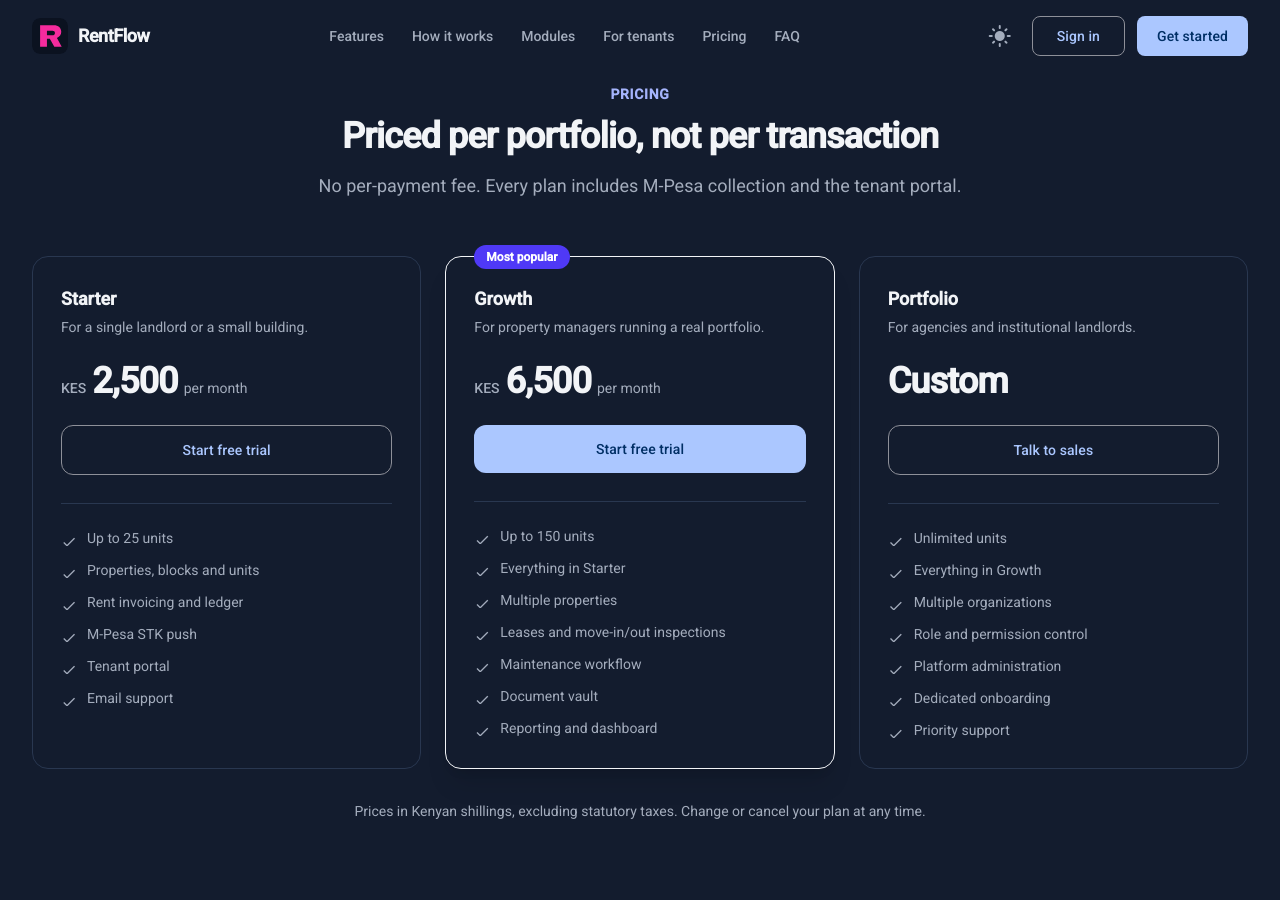
Test: LandingComponent › opens a sales inquiry form from the Portfolio plan
(page scrolled)
Click the button "Talk to sales" at (1053, 450), box [888, 425, 1219, 475]
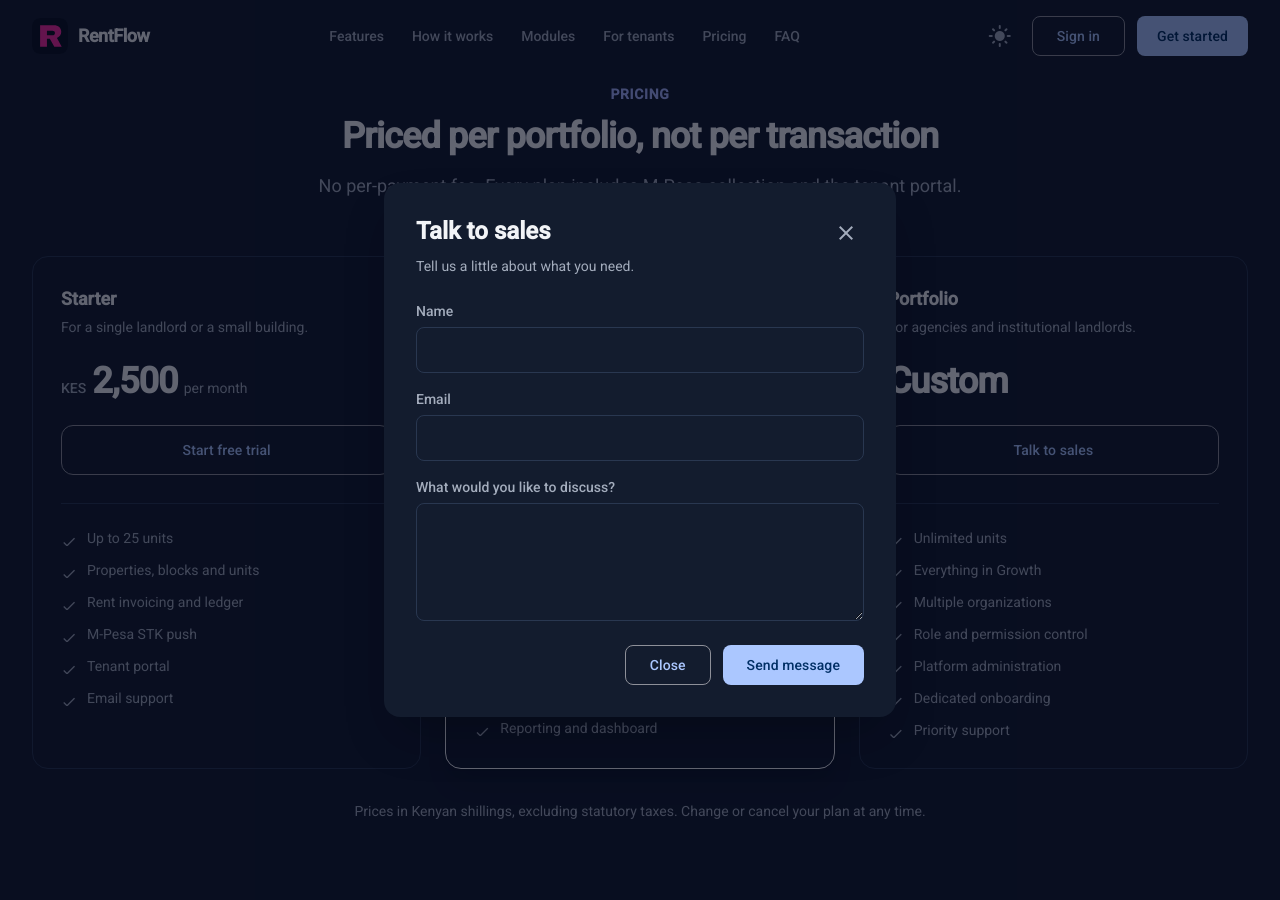
Expected: the dialog is shown, [384, 183, 896, 717]
Expected: the field named "name" is shown, [416, 327, 864, 373]
Expected: the field named "email" is shown, [416, 415, 864, 461]
Click the button named "Close sales inquiry form" at (846, 233), box [828, 215, 864, 251]
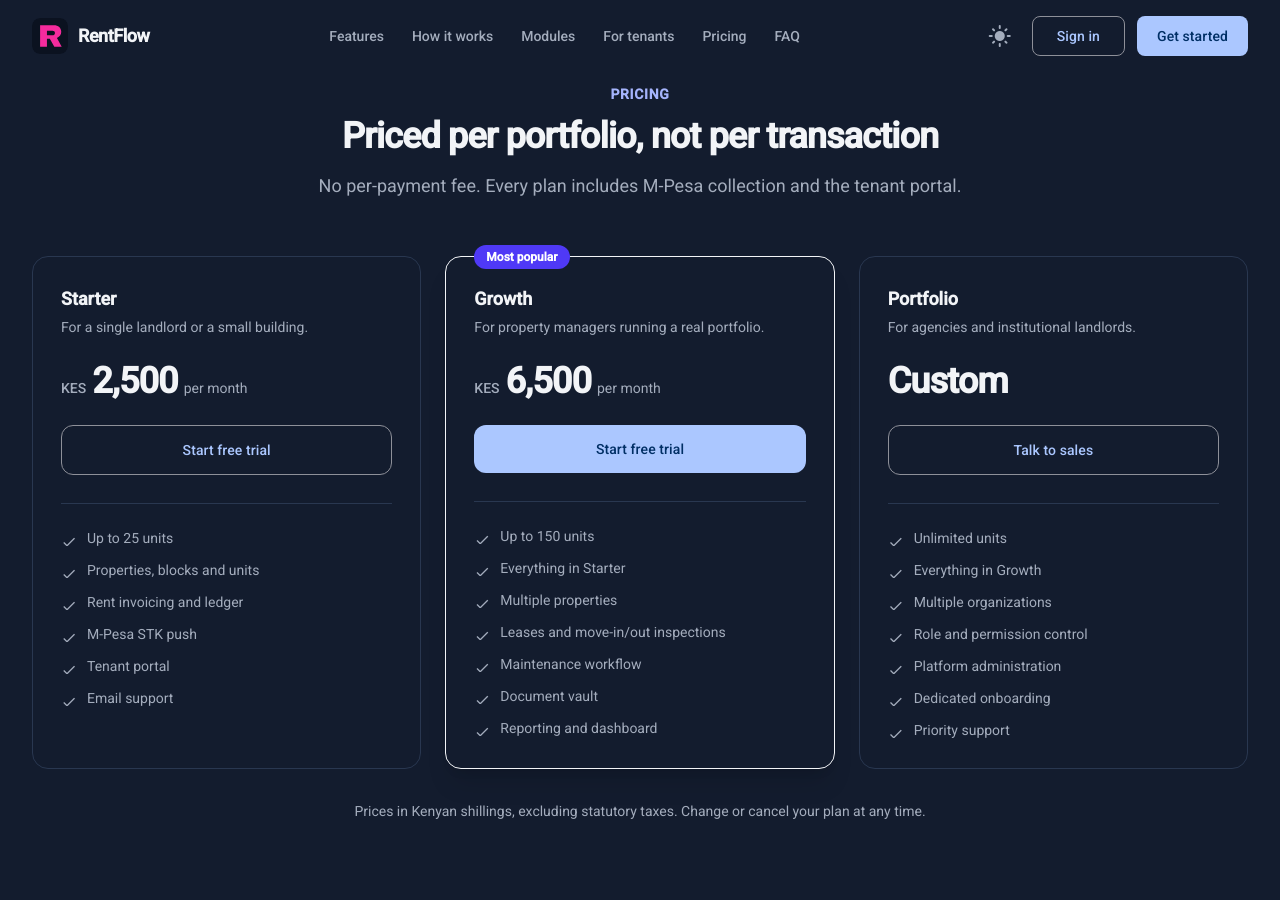
Expected: the dialog is gone
